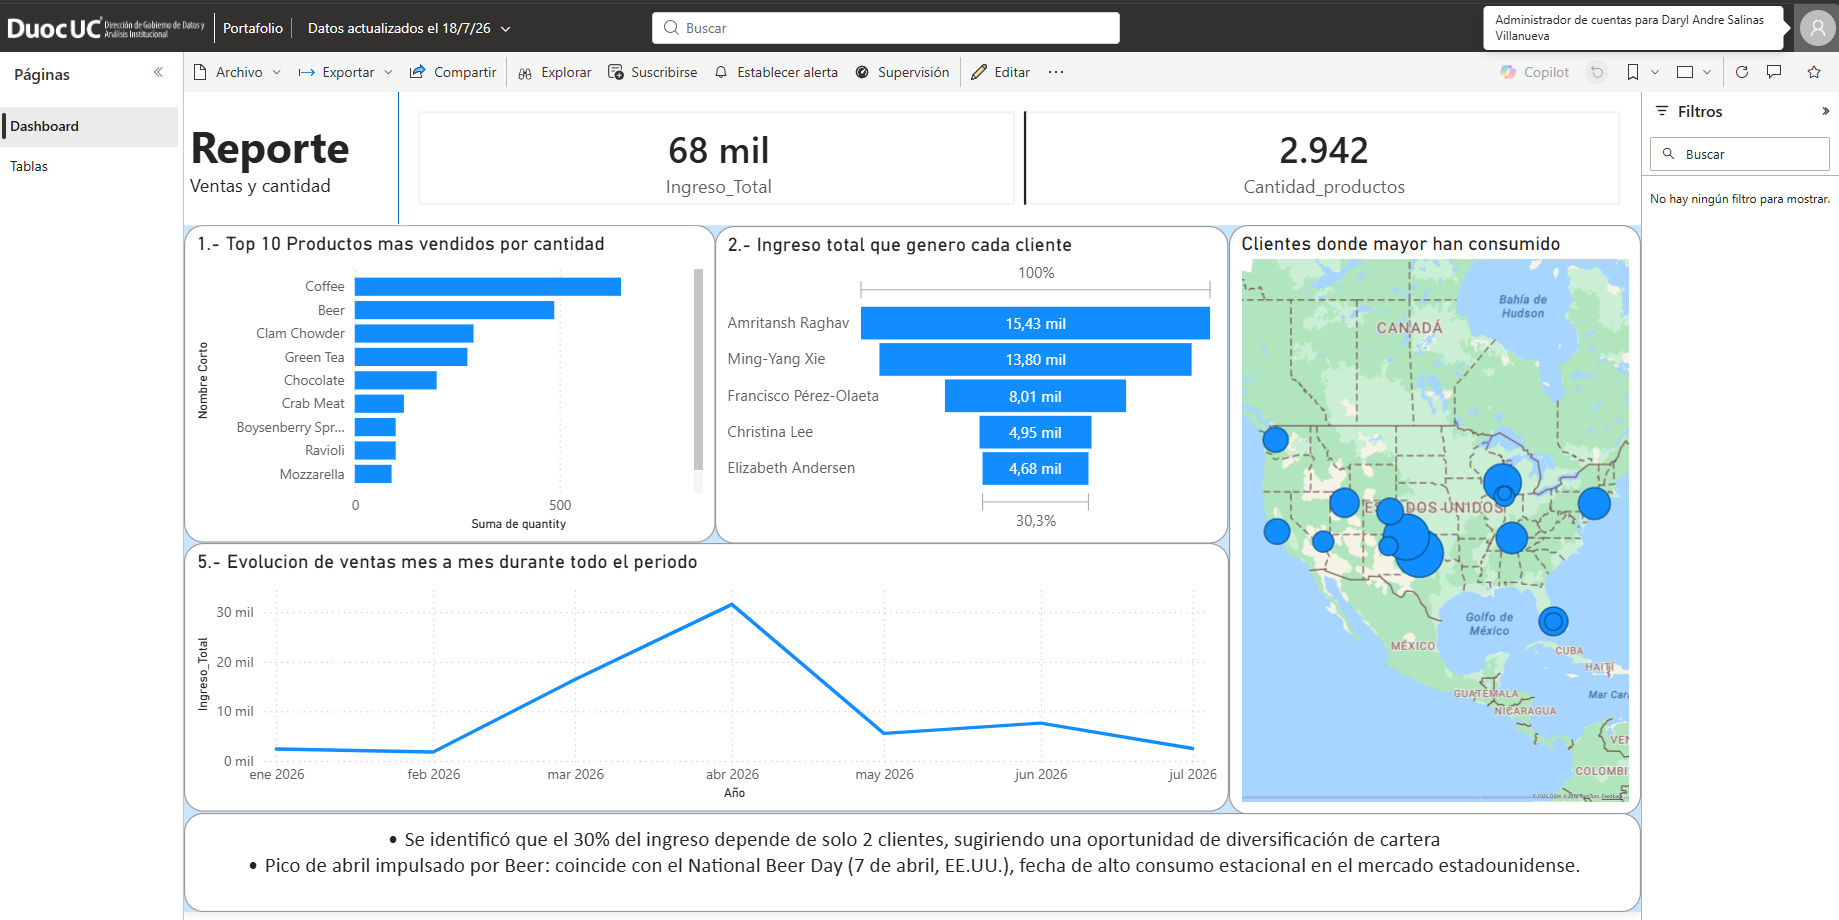

The dashboard page shown, as its layout file describes it:
{"tool":"powerbi","page":{"name":"Dashboard ","canvas":[1280,720],"ordinal":0},"visuals":[{"type":"barChart","title":"1.- Top 10 Productos mas vendidos por cantidad","fields":{"Y":["Sum(order_details.quantity)"],"Category":["products.Nombre Corto"]},"box":[0,116.7,466.9,279.3],"z":0},{"type":"lineChart","title":"5.- Evolucion de ventas mes a mes durante todo el periodo","fields":{"Category":["Calendario.Date.Variación.Jerarquía de fechas.Año","Calendario.Date.Variación.Jerarquía de fechas.Mes"],"Y":["_Medidas.Ingreso_Total"]},"box":[0,395.9,918.2,236.4],"z":1000},{"type":"funnel","title":"2.- Ingreso total que genero cada cliente","fields":{"Category":["customers.Nombre Cliente"],"Y":["_Medidas.Ingreso_Total"]},"box":[466.9,117.7,450.9,279.3],"z":2000},{"type":"textbox","box":[0,0,196.5,116.7],"z":3000},{"type":"shape","box":[147.3,0,82.7,116.4],"z":4000},{"type":"cardVisual","fields":{"Data":["_Medidas.Ingreso_Total","Sum(order_details.quantity)"]},"box":[188.7,0,1091.3,116.7],"z":5000},{"type":"azureMap","title":"Clientes donde mayor han consumido","fields":{"Category":["customers.Direccion"],"Size":["_Medidas.Ingreso_Total"]},"box":[917.8,116.7,362.2,517.8],"z":6000},{"type":"textbox","box":[0,633.2,1280,86.6],"z":7000}]}

Visuals, with their boxes on the page's 1280x720 design canvas (x1, y1, x2, y2). These are canvas units, not pixel positions in the 1839x920 screenshot, which may show the page scaled, cropped or inside an application window:
"1.- Top 10 Productos mas vendidos por cantidad" barChart: bbox=(0, 117, 467, 396)
"5.- Evolucion de ventas mes a mes durante todo el periodo" lineChart: bbox=(0, 396, 918, 632)
"2.- Ingreso total que genero cada cliente" funnel: bbox=(467, 118, 918, 397)
textbox: bbox=(0, 0, 196, 117)
shape: bbox=(147, 0, 230, 116)
cardVisual - _Medidas.Ingreso_Total x Sum(order_details.quantity): bbox=(189, 0, 1280, 117)
"Clientes donde mayor han consumido" azureMap: bbox=(918, 117, 1280, 634)
textbox: bbox=(0, 633, 1280, 720)
